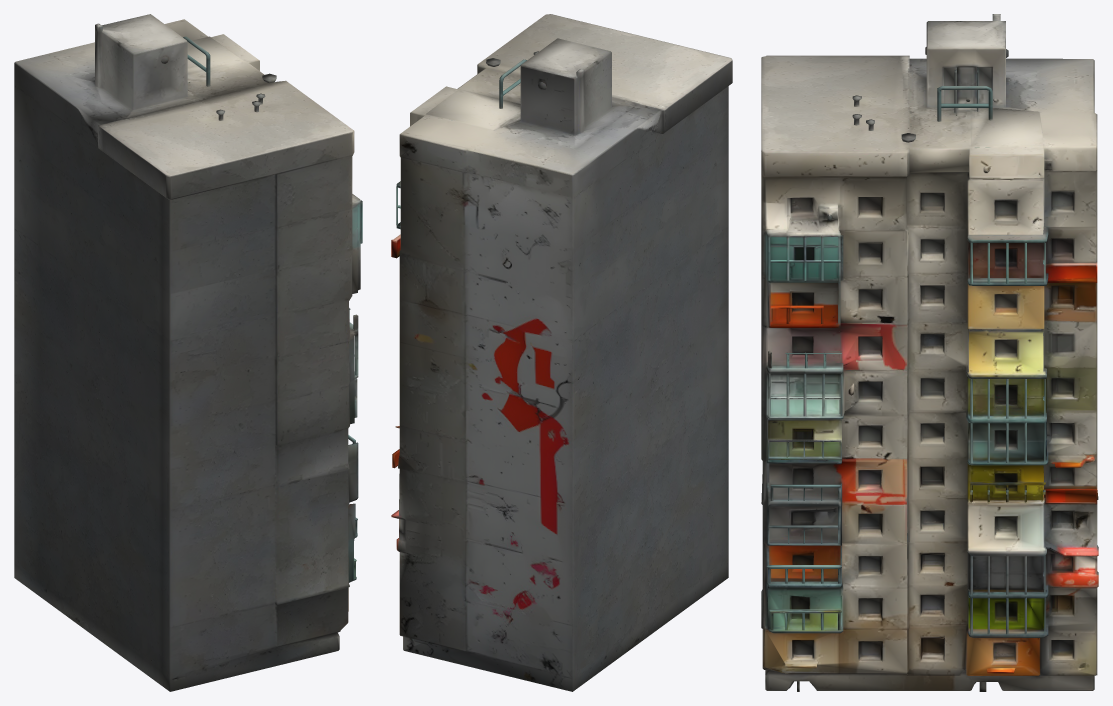
The model's file is panel_tower.glb.
The picture shows the model from 3 angles, left to right: view 1: azimuth 30°, elevation 25°; view 2: azimuth 150°, elevation 25°; view 3: azimuth 270°, elevation 25°; orthographic projection. The views are drawn at different scales.
Visible parts, largest first — view 1: tripo_node_473a5acc-7dfe-432d-acc3-806dd7379ad8; view 2: tripo_node_473a5acc-7dfe-432d-acc3-806dd7379ad8; view 3: tripo_node_473a5acc-7dfe-432d-acc3-806dd7379ad8.
Boxes of the visible parts, box(x1,y1,x2,y2) form: tripo_node_473a5acc-7dfe-432d-acc3-806dd7379ad8: box(14, 14, 362, 691); tripo_node_473a5acc-7dfe-432d-acc3-806dd7379ad8: box(391, 14, 732, 691); tripo_node_473a5acc-7dfe-432d-acc3-806dd7379ad8: box(761, 14, 1098, 691).
Size of the model in its own units: 0.9149 by 2.5 by 1.25.
1 material, 1 textured.
